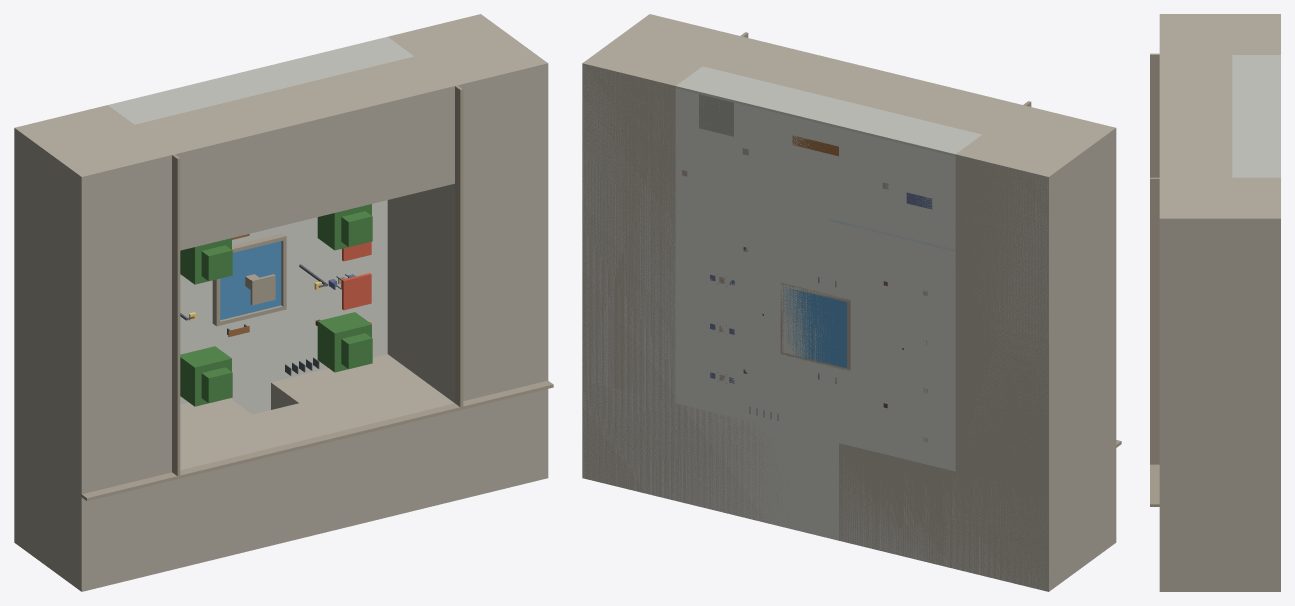
The model's file is courtyard.obj.
3 renders of one model, left to right at view 1: azimuth 30°, elevation 25°; view 2: azimuth 150°, elevation 25°; view 3: azimuth 270°, elevation 25°, orthographic. The views are drawn at different scales.
Parts seen in each view (by area): view 1: west-wing, east-wing, north-upper, south-west-mass, south-east-mass, ground-visual-only, lobby-back-wall, gate-roof, parapet-south, fountain-water, parapet-east, parapet-west (+10 smaller); view 2: ground-visual-only, west-wing, east-wing, south-west-mass, south-east-mass, north-upper, lobby-back-wall, fountain-water, lift-core; view 3: east-wing, south-east-mass, north-upper, lobby-back-wall, west-wing, parapet-east, parapet-west, parapet-south.
Boxes of the visible parts, x1,y1,x2,y2 form: west-wing: (14, 105, 174, 494); east-wing: (387, 14, 548, 402); north-upper: (135, 56, 454, 250); south-west-mass: (14, 398, 291, 591); south-east-mass: (271, 354, 548, 529); ground-visual-only: (180, 200, 387, 414); lobby-back-wall: (108, 37, 413, 124); gate-roof: (253, 403, 338, 540); parapet-south: (81, 380, 553, 501); fountain-water: (220, 241, 281, 319); parapet-east: (455, 85, 463, 407); parapet-west: (172, 154, 180, 476); ground-visual-only: (582, 63, 1048, 591); west-wing: (955, 105, 1116, 494); east-wing: (582, 14, 742, 402); south-west-mass: (839, 443, 1116, 591); south-east-mass: (582, 380, 788, 524); north-upper: (703, 37, 1022, 134); lobby-back-wall: (675, 66, 981, 156); fountain-water: (784, 287, 846, 367); lift-core: (699, 94, 733, 136); east-wing: (1159, 177, 1280, 504); south-east-mass: (1159, 504, 1280, 591); north-upper: (1159, 55, 1232, 177); lobby-back-wall: (1232, 55, 1280, 177); west-wing: (1159, 14, 1280, 54); parapet-east: (1150, 177, 1159, 464); parapet-west: (1150, 53, 1159, 177); parapet-south: (1150, 464, 1159, 506).
Size of the model in its own units: 40 by 34 by 10.8.
